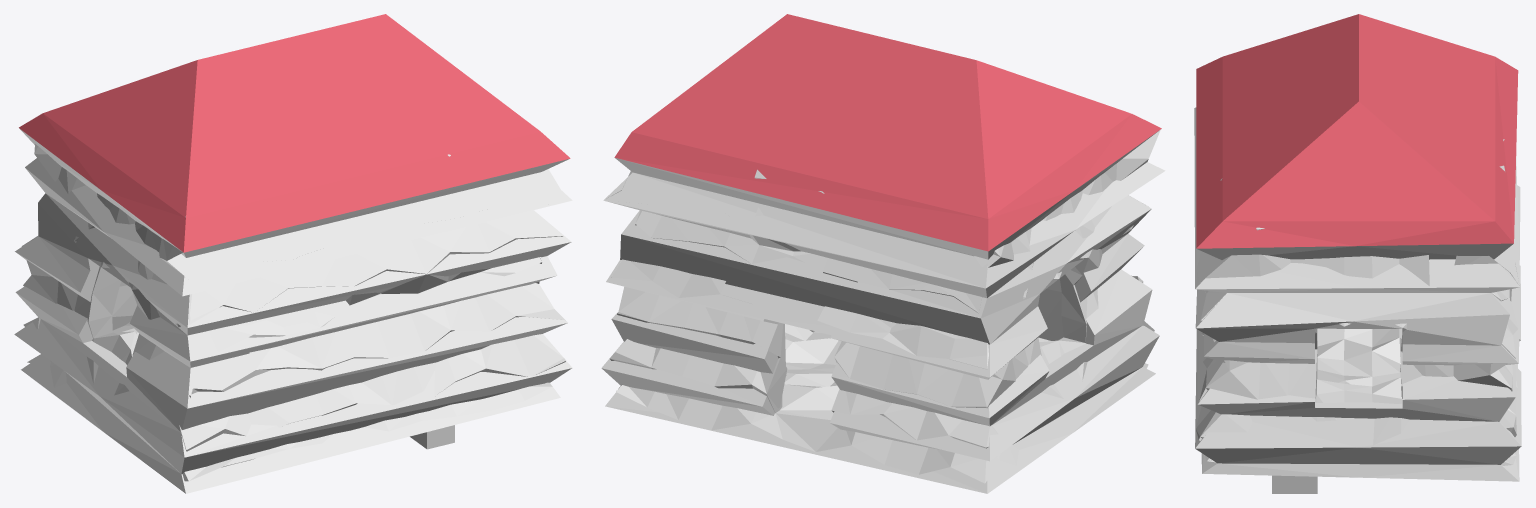
The model's file is playerhouse.dae.
3 renders of one model, left to right at view 1: azimuth 30°, elevation 25°; view 2: azimuth 150°, elevation 25°; view 3: azimuth 270°, elevation 25°, orthographic. The views are drawn at different scales.
Parts seen in each view (by area): view 1: Cube, Cube.002, Cube.001; view 2: Cube, Cube.002; view 3: Cube, Cube.002, Cube.001.
Part boxes in pixels (x1,y1,x2,y2): Cube: (14,14,572,493); Cube.002: (21,144,568,481); Cube.001: (410,425,454,449); Cube: (601,14,1165,493); Cube.002: (608,113,1160,483); Cube: (1194,14,1521,481); Cube.002: (1195,108,1519,465); Cube.001: (1272,370,1317,493).
Size of the model in its own units: 28.1 by 21.41 by 27.56.
